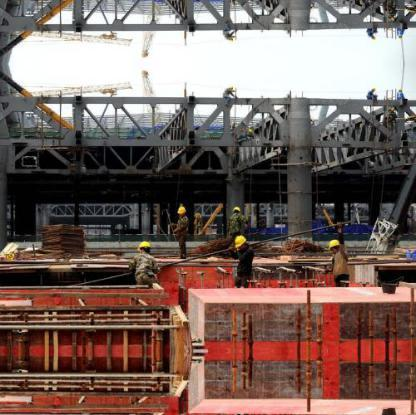helmet: (134, 239, 157, 254), (235, 231, 250, 251), (326, 238, 340, 253), (175, 203, 188, 217), (228, 206, 242, 217)
